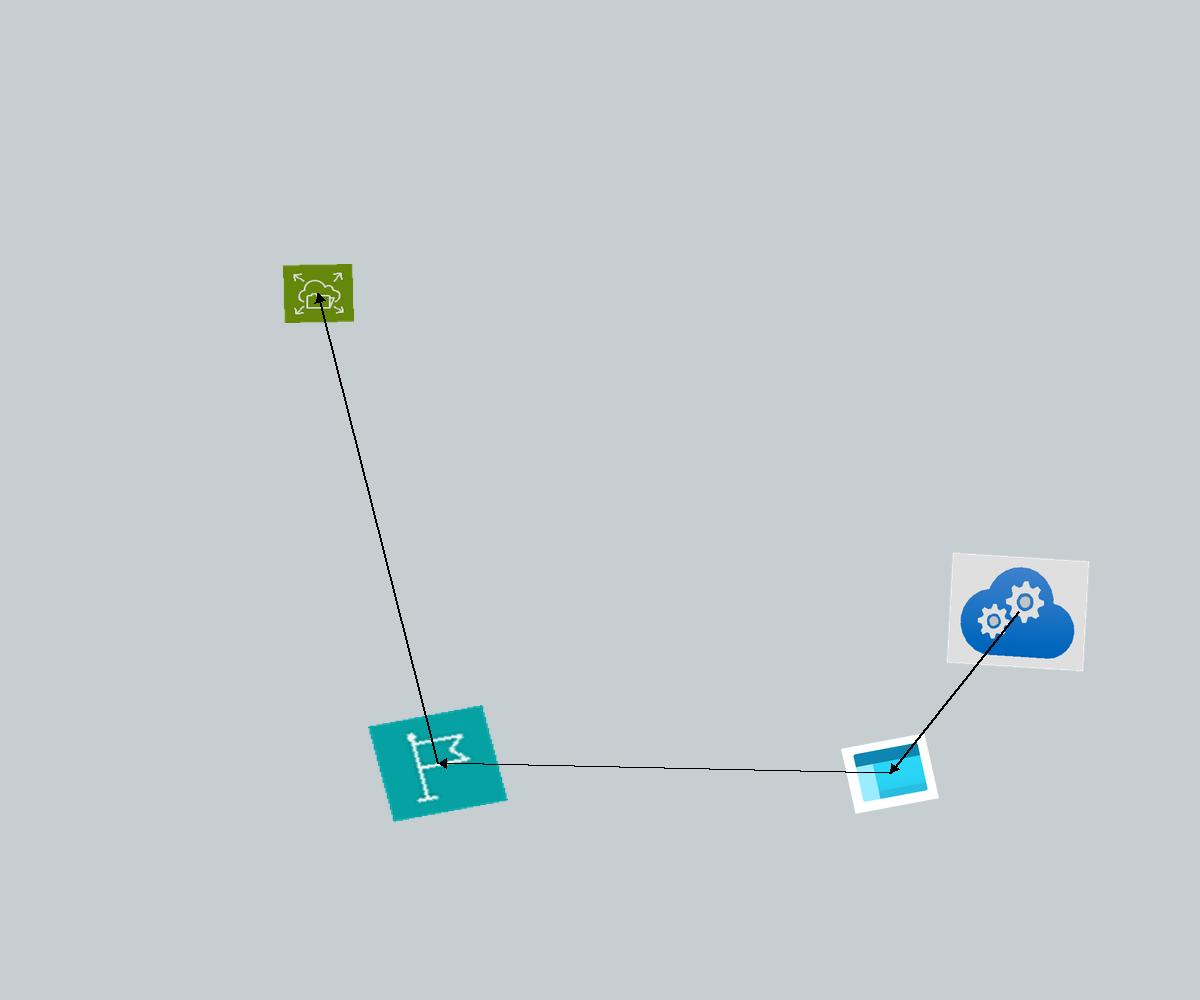AWS-EFS: (283, 264, 354, 323)
AWS-Region: (368, 705, 508, 822)
Azure_cloud_services: (946, 552, 1090, 672)
Azure_management-portal: (841, 733, 939, 814)
